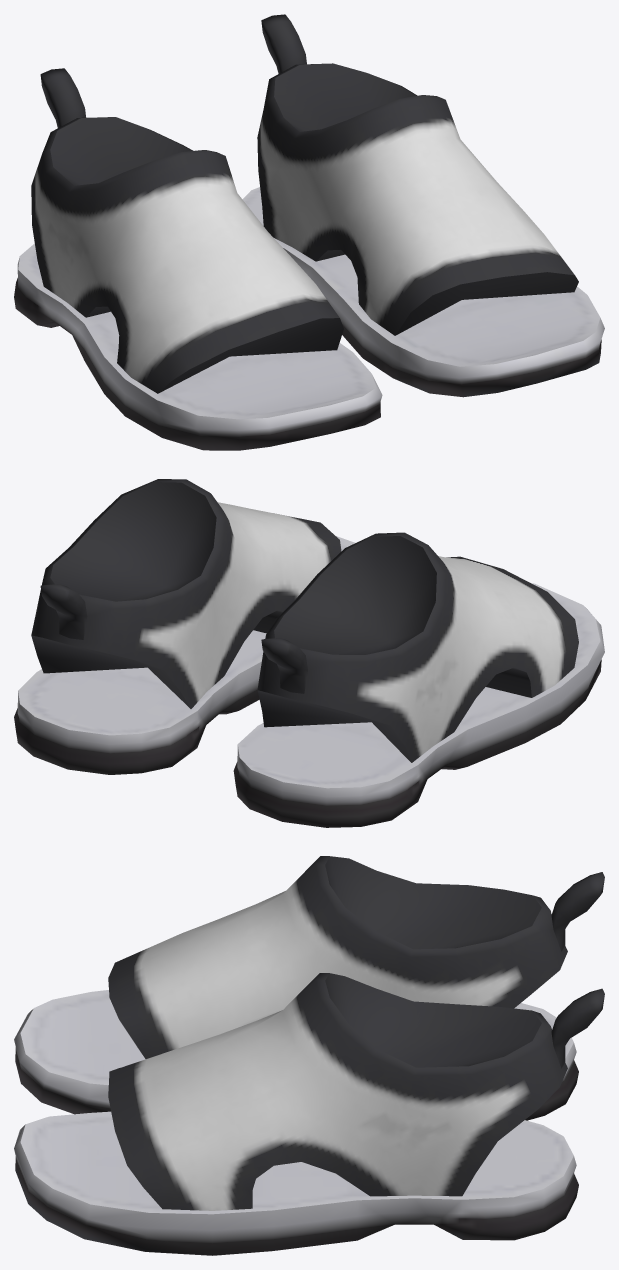
The model's file is p0_ftw1007_00_ftw00.gltf.
3 renders of one model, top to bottom at view 1: azimuth 30°, elevation 25°; view 2: azimuth 150°, elevation 25°; view 3: azimuth 270°, elevation 25°, orthographic. The views are drawn at different scales.
Visible parts, largest first — view 1: ftw00_shoes_mesh_shape:shoes; view 2: ftw00_shoes_mesh_shape:shoes; view 3: ftw00_shoes_mesh_shape:shoes.
Boxes of the visible parts, <box> form: ftw00_shoes_mesh_shape:shoes: <box>14,14,604,450</box>; ftw00_shoes_mesh_shape:shoes: <box>14,479,604,827</box>; ftw00_shoes_mesh_shape:shoes: <box>14,856,604,1255</box>.
Size of what is drawn, in the model's own units: 0.2344 by 0.106 by 0.2542.
Materials: 1 (1 with a texture image).
